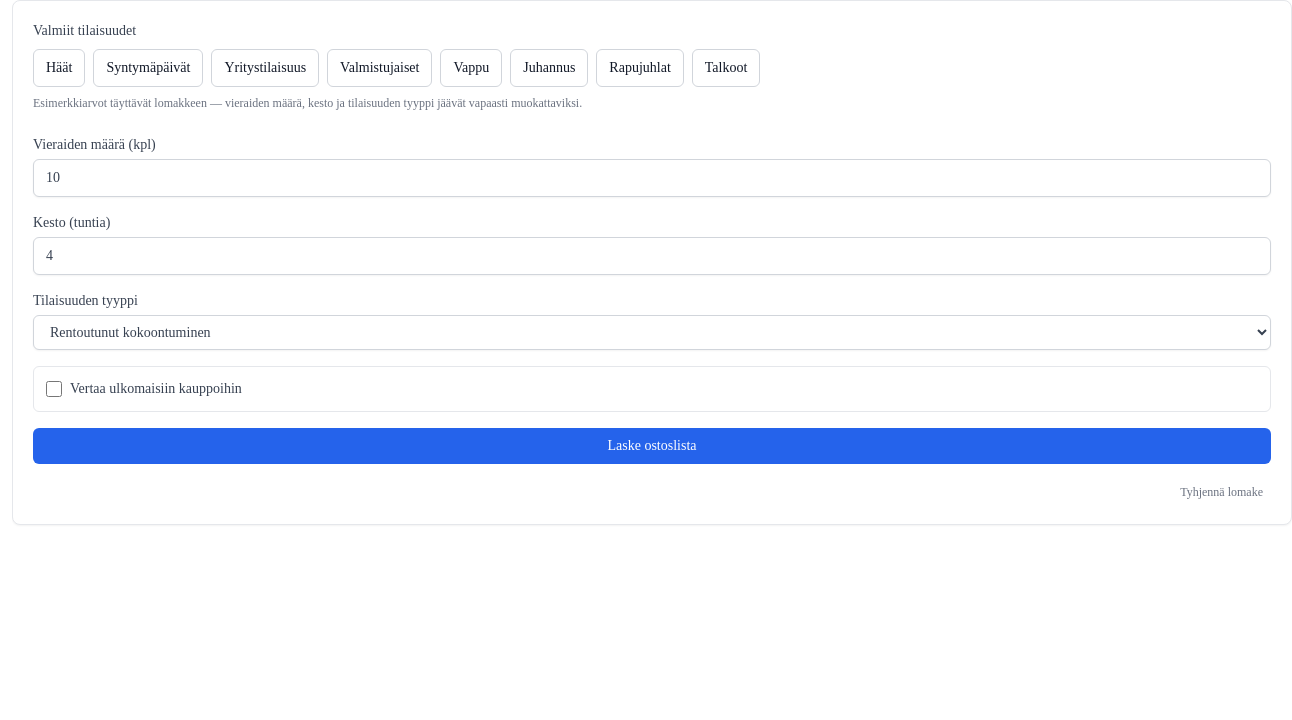
Test case: EventPage › degrades a 403 (backend rejection) to an unavailable message
The width and height of the screenshot is (1292, 720).
Click the button "Laske ostoslista" at (652, 446), box [33,428,1271,464]
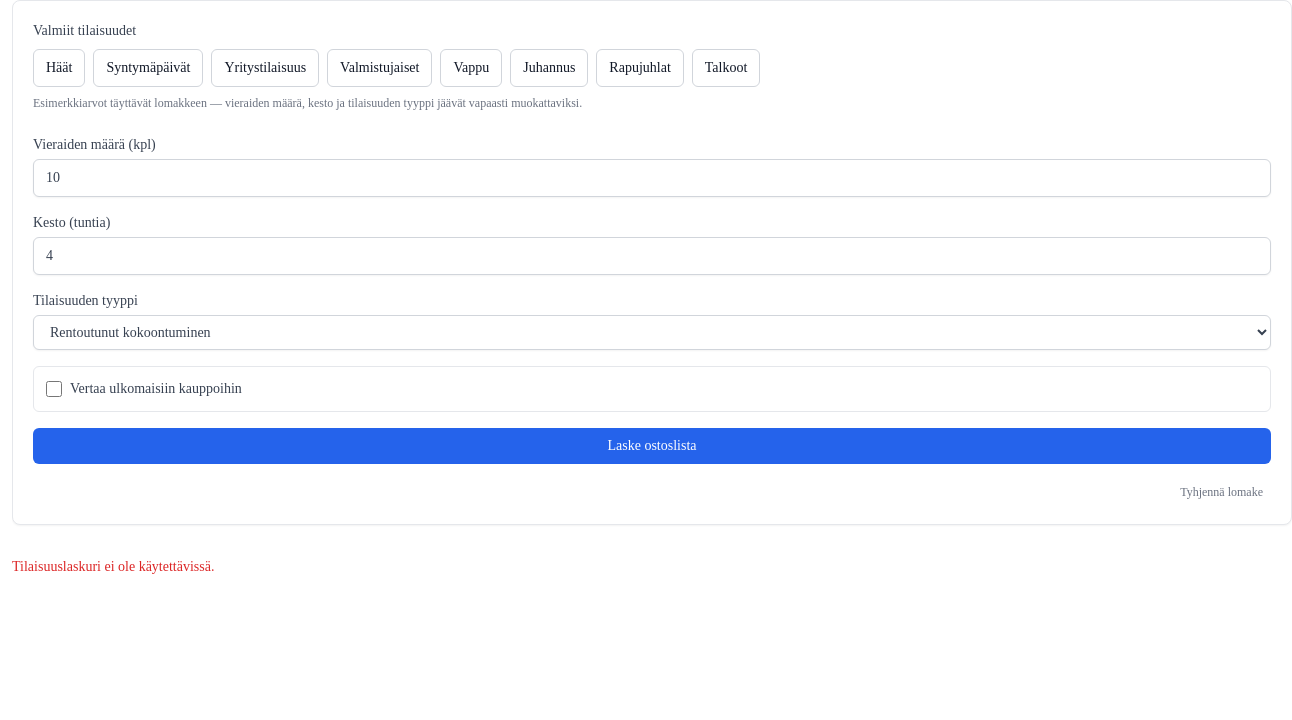
Check: the message reads "Tilaisuuslaskuri ei ole käytettävissä.", box [12,559,214,574]
